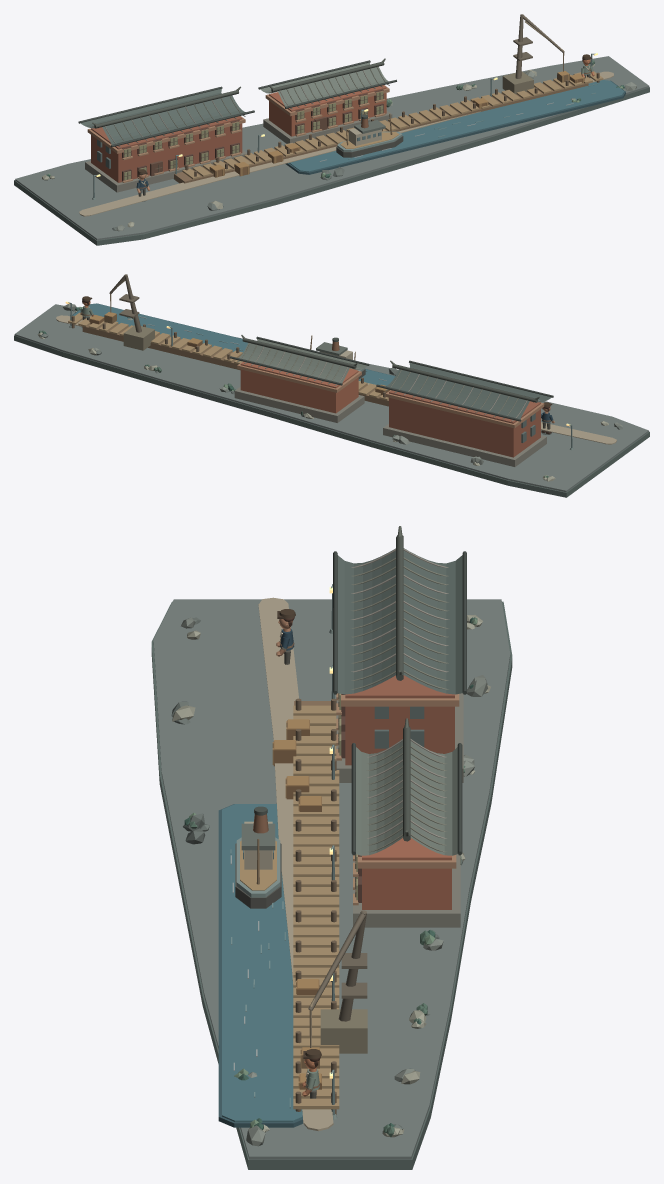
The model's file is yokohama.glb.
3 views of the same model, one above another, from view 1: azimuth 30°, elevation 25°; view 2: azimuth 150°, elevation 25°; view 3: azimuth 270°, elevation 25° (orthographic). The views are drawn at different scales.
Visible parts, largest first — view 1: TerrainAndBuildings, SteamerBoatPivot; view 2: TerrainAndBuildings, SteamerBoatPivot; view 3: TerrainAndBuildings, SteamerBoatPivot.
Boxes of the visible parts, x1=… form: TerrainAndBuildings: x1=14, y1=14, x2=649, y2=245; SteamerBoatPivot: x1=336, y1=113, x2=403, y2=157; TerrainAndBuildings: x1=14, y1=274, x2=649, y2=497; SteamerBoatPivot: x1=310, y1=335, x2=365, y2=378; TerrainAndBuildings: x1=151, y1=526, x2=512, y2=1169; SteamerBoatPivot: x1=235, y1=806, x2=281, y2=908.
Size of the model in its own units: 1.73 by 0.2335 by 0.4717.
